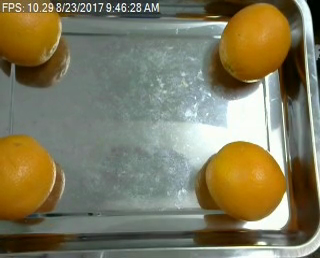Orange: (205, 140, 286, 220), (219, 1, 292, 83), (1, 134, 58, 220), (3, 1, 64, 67)
